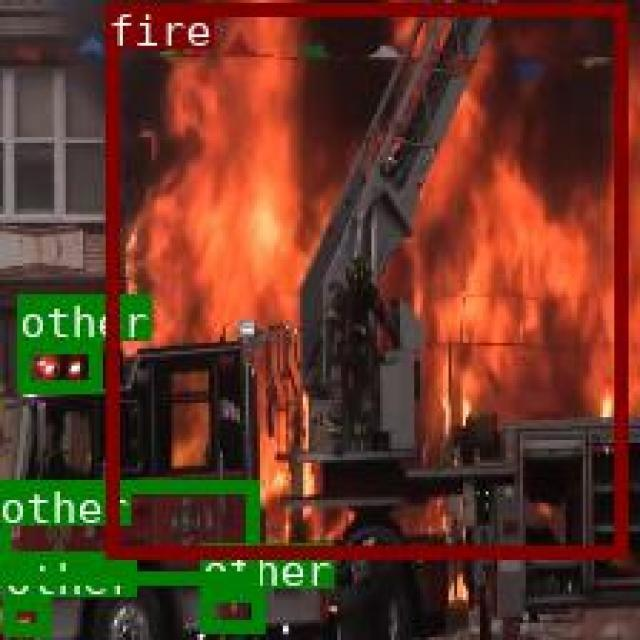fire: (104, 3, 624, 557)
